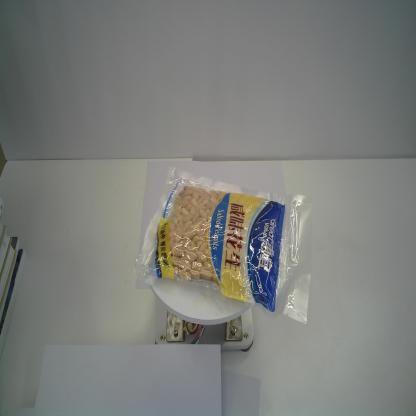Dried Fruit: (134, 165, 314, 327)
